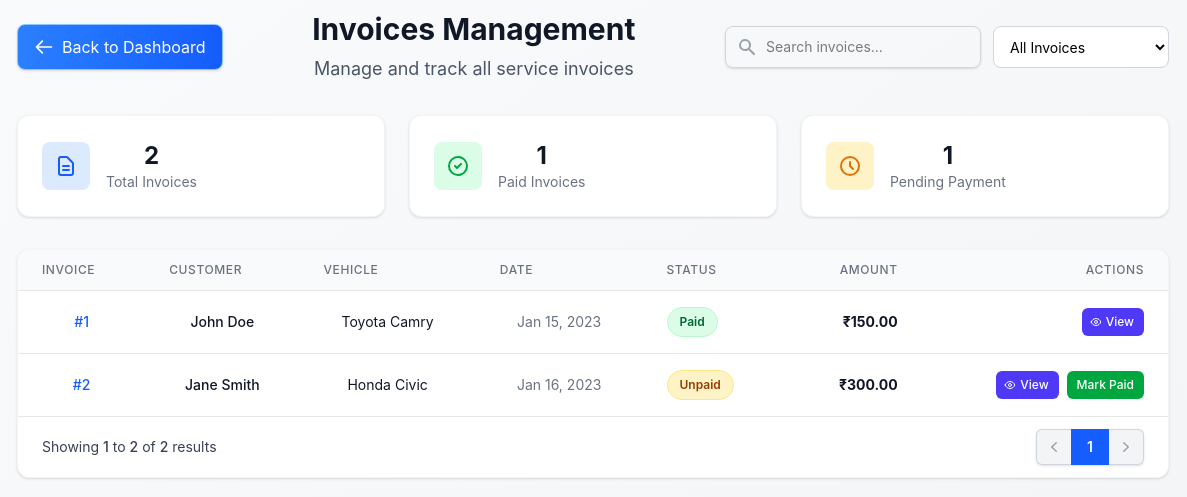
Scenario: InvoicesManagementPage › filters invoices by status
# Filter by "paid" status
Select "Paid" in the dropdown at (1081, 47), box 993,26 -> 1169,68
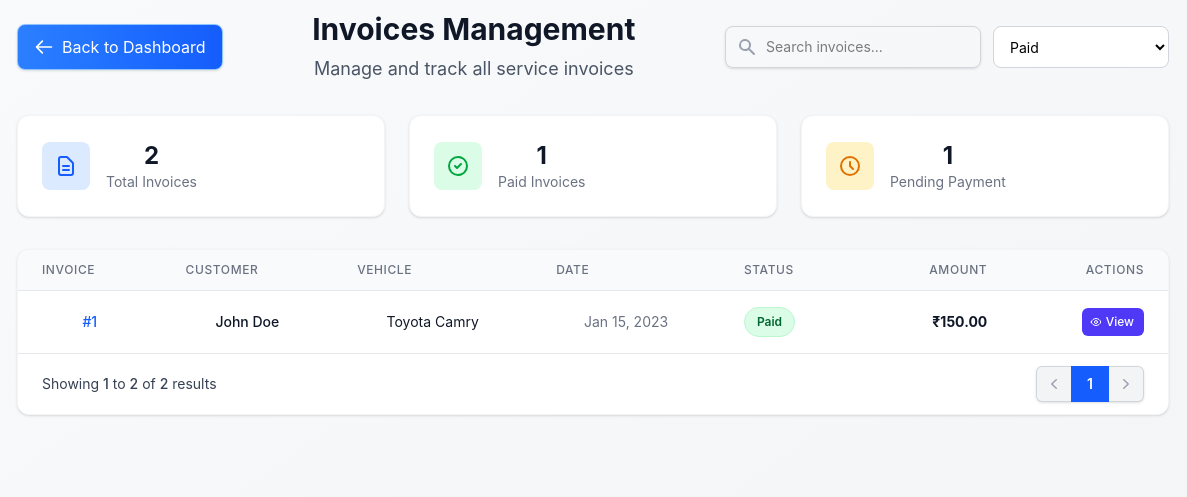
Expected: the dropdown shows "Paid", 993,26 -> 1169,68
